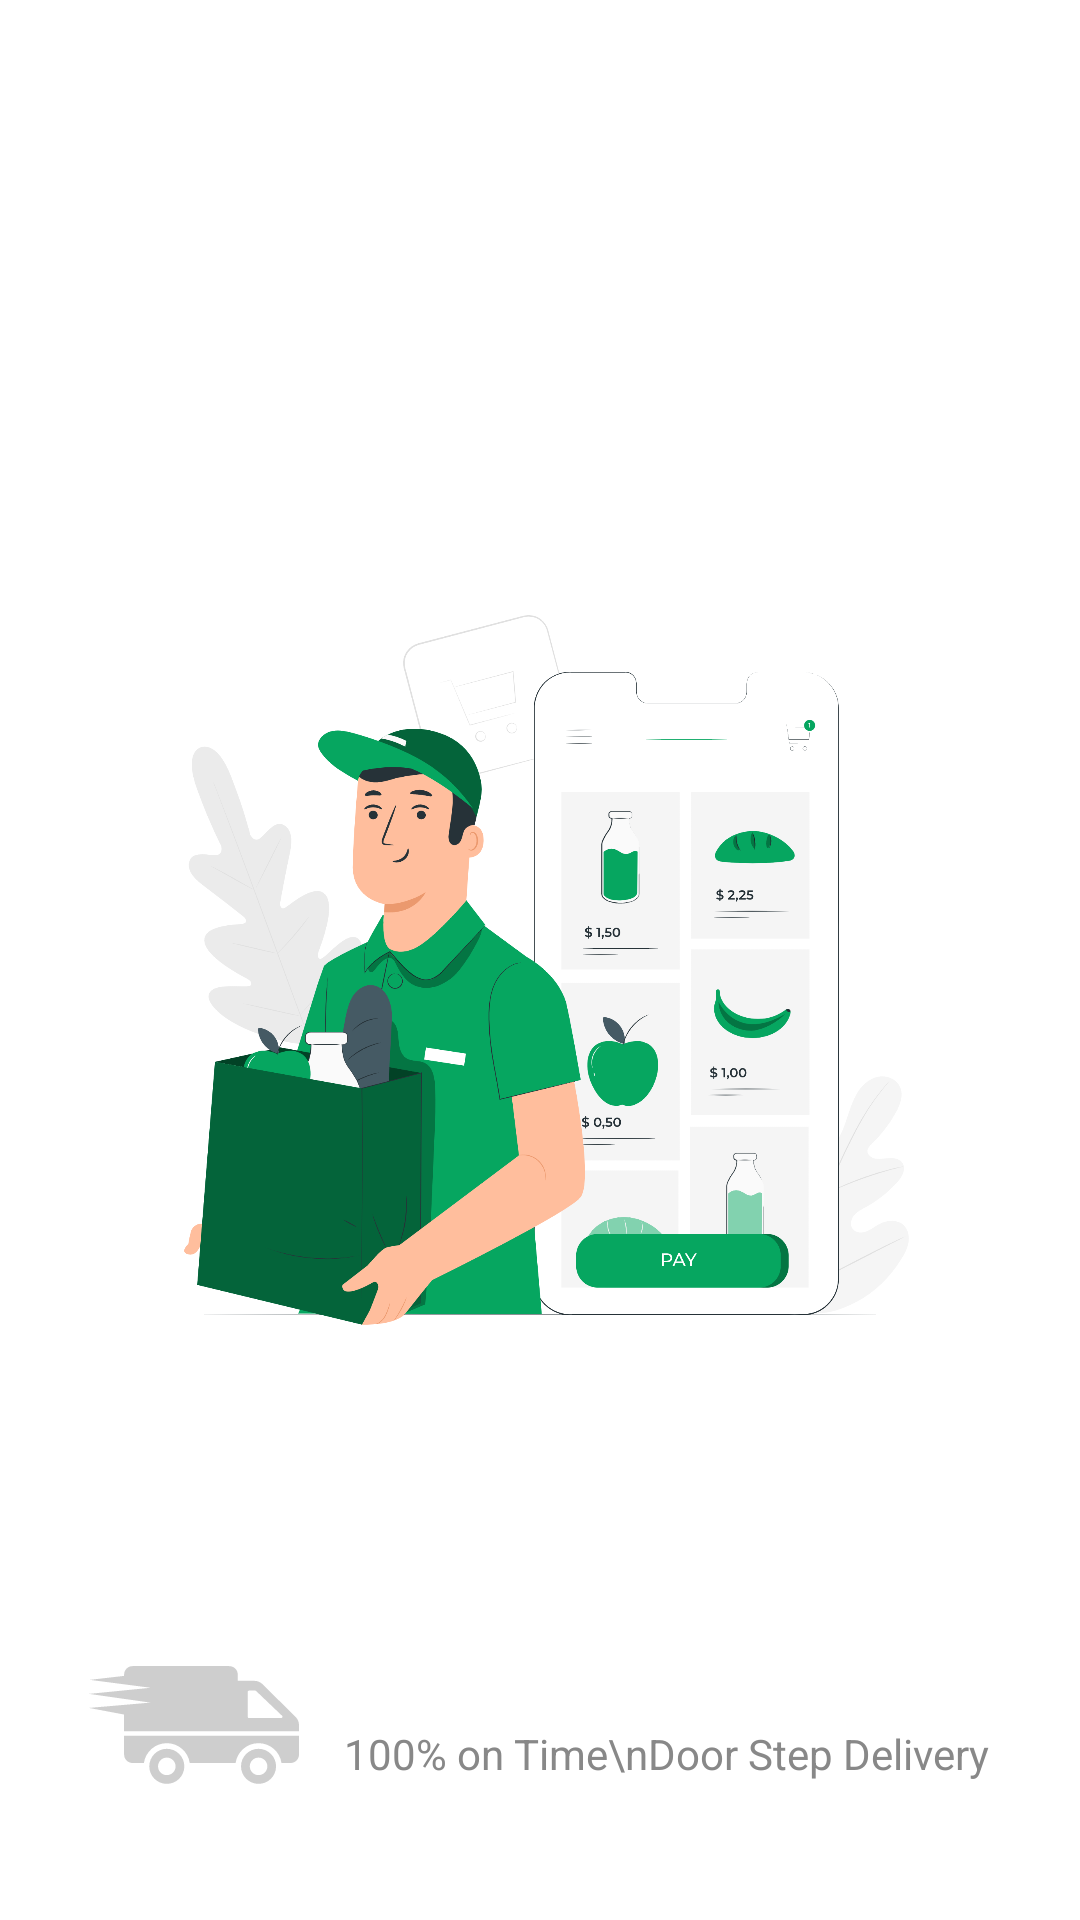

Icons on this 1080w x 1920h Android screen, each with its box as (x1, y1, x2, y2):
logistics: (92, 1666, 299, 1784)
